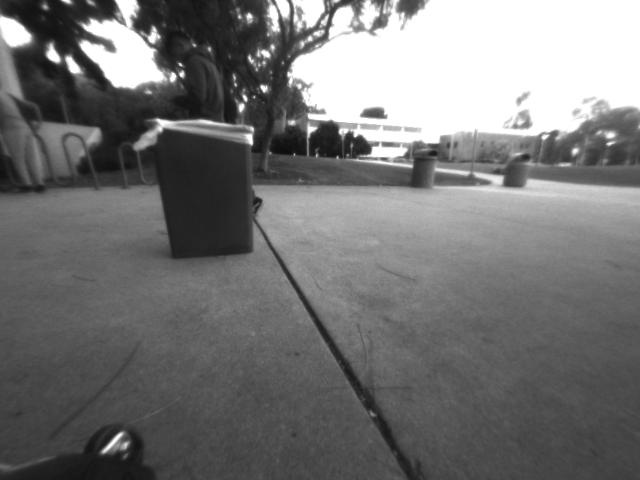trashcan_open: (144, 109, 268, 266)
